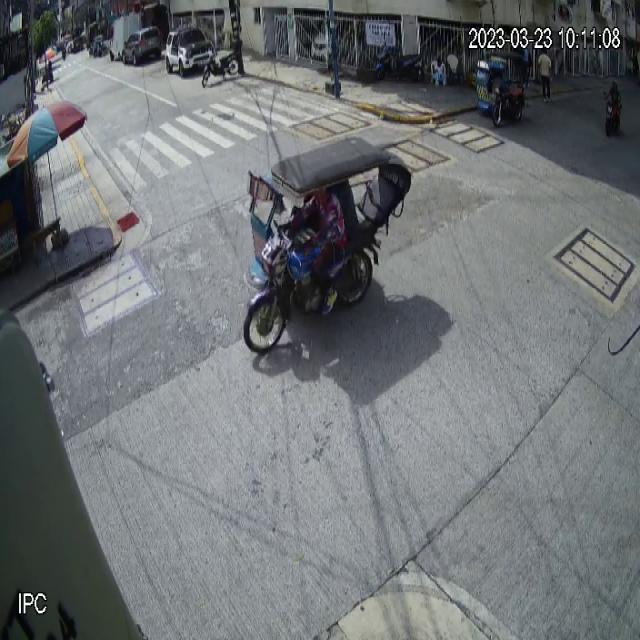Tricycle: (243, 136, 413, 357), (476, 51, 531, 127)
